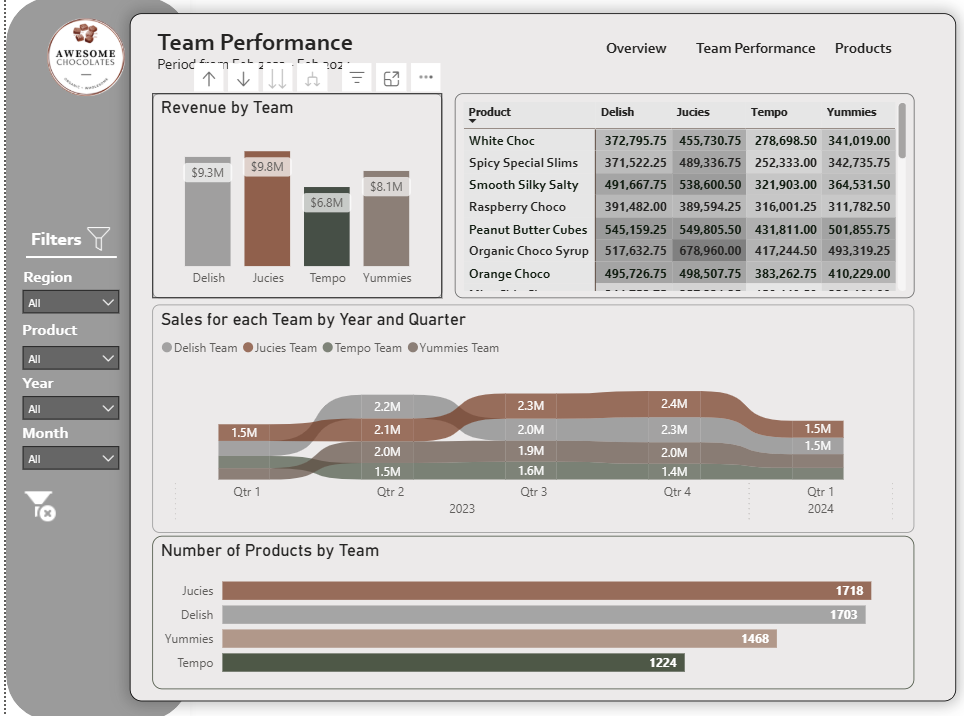

What the dashboard file says about the page in this screenshot:
{"tool":"powerbi","page":{"name":"Team Performance","canvas":[960,720],"ordinal":1},"visuals":[{"type":"shape","box":[0,0,183,720.6],"z":0},{"type":"shape","box":[123.1,16.2,822.6,684.9],"z":1000},{"type":"image","box":[35.6,16.2,87.4,87.4],"z":2000},{"type":"textbox","box":[19.4,223.5,72.9,35.6],"z":3000},{"type":"image","box":[74.5,215.4,35.6,51.8],"z":4000},{"type":"shape","box":[19.4,242.9,90.7,32.4],"z":5000},{"type":"slicer","fields":{"Values":["locations.Region"]},"box":[6.5,281.7,116.6,51.8],"z":6000},{"type":"slicer","fields":{"Values":["products.Product"]},"box":[6.5,336.8,116.6,50.2],"z":7000},{"type":"slicer","fields":{"Values":["calendar.Date.Variation.Date Hierarchy.Year"]},"box":[6.5,387,116.6,50.2],"z":8000},{"type":"textbox","box":[11.3,369.2,72.9,35.6],"z":9000},{"type":"textbox","box":[11.3,315.7,72.9,35.6],"z":10000},{"type":"textbox","box":[13,263.9,72.9,35.6],"z":11000},{"type":"textbox","box":[145.7,24.3,218.6,51.8],"z":12000},{"type":"textbox","box":[145.7,51.8,242.9,51.8],"z":13000},{"type":"slicer","fields":{"Values":["calendar.Date.Variation.Date Hierarchy.Month"]},"box":[6.5,437.2,116.6,51.8],"z":14000},{"type":"textbox","box":[11.3,419.4,72.9,35.6],"z":15000},{"type":"image","box":[8.6,483,47.7,44],"z":16000},{"type":"actionButton","box":[6.1,483,68.5,52.6],"z":17000},{"type":"textbox","box":[591.9,35.5,80.7,33],"z":18000},{"type":"textbox","box":[681.1,35.5,138.2,33],"z":19000},{"type":"actionButton","box":[591.9,23.2,80.7,52.6],"z":20000},{"type":"lineStackedColumnComboChart","fields":{"Category":["shipments.Product","people.Team"],"Y":["calendar.Revenue"]},"box":[145.5,95.4,288.6,204.2],"z":21000},{"type":"ribbonChart","title":"Sales for each Team by Year and Quarter","fields":{"Category":["calendar.Date.Variation.Date Hierarchy.Year","calendar.Date.Variation.Date Hierarchy.Quarter"],"Y":["Comparsions.Sales for Delish","Comparsions.Sales for Jucies","Comparsions.Sales for Tempo","Comparsions.Sales for Yummies"]},"box":[145.5,305.7,758.2,227.4],"z":22000},{"type":"pivotTable","fields":{"Rows":["shipments.Product"],"Values":["Sum(shipments.Sales)"],"Columns":["people.Team"]},"box":[446.3,95.4,457.3,204.2],"z":23000},{"type":"barChart","fields":{"Category":["people.Team"],"Y":["CountNonNull(shipments.Product)"]},"box":[145.5,535.6,758.2,152.9],"z":24000},{"type":"textbox","box":[819.3,35.5,80.7,33],"z":25000},{"type":"actionButton","box":[811.2,25.9,81,53.4],"z":26000}]}

Visuals, with their boxes on the page's 960x720 design canvas (x1, y1, x2, y2). These are canvas units, not pixel positions in the 964x716 screenshot, which may show the page scaled, cropped or inside an application window:
shape: bbox=(0, 0, 183, 721)
shape: bbox=(123, 16, 946, 701)
image: bbox=(36, 16, 123, 104)
textbox: bbox=(19, 224, 92, 259)
image: bbox=(74, 215, 110, 267)
shape: bbox=(19, 243, 110, 275)
slicer - locations.Region: bbox=(6, 282, 123, 334)
slicer - products.Product: bbox=(6, 337, 123, 387)
slicer - calendar.Date.Variation.Date Hierarchy.Year: bbox=(6, 387, 123, 437)
textbox: bbox=(11, 369, 84, 405)
textbox: bbox=(11, 316, 84, 351)
textbox: bbox=(13, 264, 86, 300)
textbox: bbox=(146, 24, 364, 76)
textbox: bbox=(146, 52, 389, 104)
slicer - calendar.Date.Variation.Date Hierarchy.Month: bbox=(6, 437, 123, 489)
textbox: bbox=(11, 419, 84, 455)
image: bbox=(9, 483, 56, 527)
actionButton: bbox=(6, 483, 75, 536)
textbox: bbox=(592, 36, 673, 68)
textbox: bbox=(681, 36, 819, 68)
actionButton: bbox=(592, 23, 673, 76)
lineStackedColumnComboChart - shipments.Product x people.Team: bbox=(146, 95, 434, 300)
"Sales for each Team by Year and Quarter" ribbonChart: bbox=(146, 306, 904, 533)
pivotTable - shipments.Product x Sum(shipments.Sales): bbox=(446, 95, 904, 300)
barChart - people.Team x CountNonNull(shipments.Product): bbox=(146, 536, 904, 688)
textbox: bbox=(819, 36, 900, 68)
actionButton: bbox=(811, 26, 892, 79)
